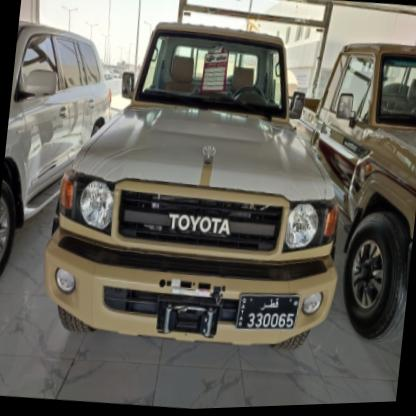np: (235, 286, 302, 341)
